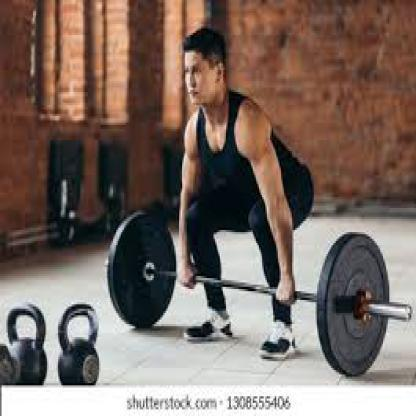barbell: (105, 213, 410, 377)
